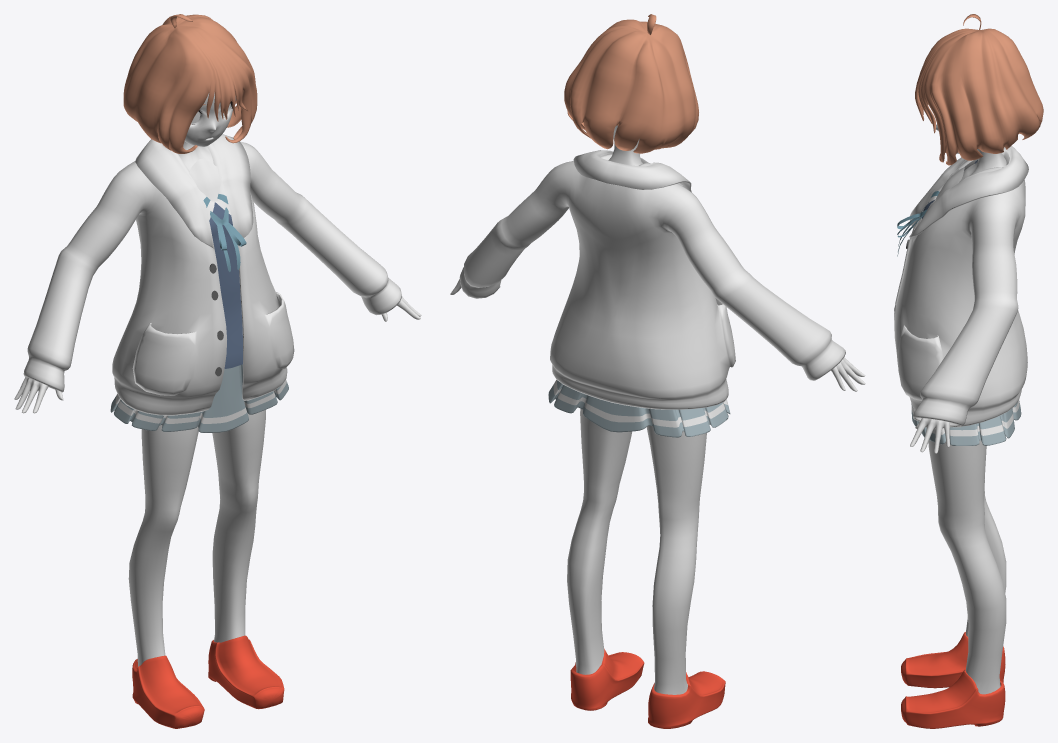
The model's file is mirai.fbx.
The picture shows the model from 3 angles, left to right: view 1: azimuth 30°, elevation 25°; view 2: azimuth 150°, elevation 25°; view 3: azimuth 270°, elevation 25°; orthographic projection. The views are drawn at different scales.
Visible parts, largest first — view 1: mirai jacket, mirai, mirai hair, mirai shoes, mirai sailor shirt, mirai skirt, mirai ribbin; view 2: mirai jacket, mirai, mirai hair, mirai shoes, mirai skirt; view 3: mirai jacket, mirai hair, mirai, mirai shoes, mirai skirt, mirai sailor shirt, mirai ribbin.
Boxes of the visible parts, x1,y1,x2,y2 form: mirai jacket: (23, 134, 401, 415); mirai: (14, 92, 421, 666); mirai hair: (123, 14, 257, 153); mirai shoes: (132, 635, 284, 728); mirai sailor shirt: (161, 143, 242, 368); mirai skirt: (110, 364, 288, 432); mirai ribbin: (210, 207, 246, 271); mirai jacket: (459, 150, 845, 409); mirai: (450, 125, 865, 694); mirai hair: (564, 14, 698, 153); mirai shoes: (570, 648, 725, 728); mirai skirt: (548, 380, 730, 437); mirai jacket: (894, 146, 1028, 427); mirai hair: (915, 14, 1043, 165); mirai: (910, 124, 1006, 694); mirai shoes: (901, 632, 1005, 728); mirai skirt: (911, 399, 1021, 445); mirai sailor shirt: (922, 149, 1009, 218); mirai ribbin: (897, 202, 928, 256).
Bounding box in the file's own units: 216 × 354 × 70.81.
